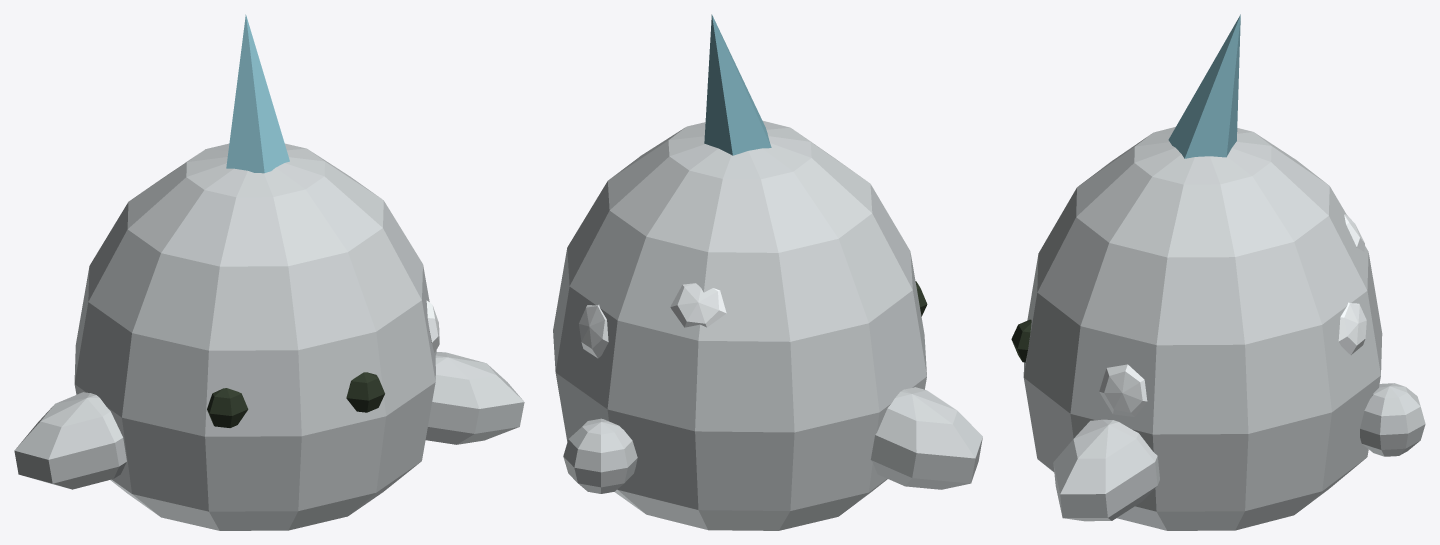
File: blob-jungle-2.glb
The picture shows the model from 3 angles, left to right: view 1: azimuth 30°, elevation 25°; view 2: azimuth 150°, elevation 25°; view 3: azimuth 270°, elevation 25°; orthographic projection. The views are drawn at different scales.
Parts seen in each view (by area): view 1: blob-jungle-2; view 2: blob-jungle-2; view 3: blob-jungle-2.
Boxes of the visible parts, box(x1,y1,x2,y2) form: blob-jungle-2: box(14, 14, 524, 530); blob-jungle-2: box(553, 14, 982, 530); blob-jungle-2: box(1011, 14, 1425, 530).
Size of the model in its own units: 0.8471 by 0.8323 by 0.6715.
